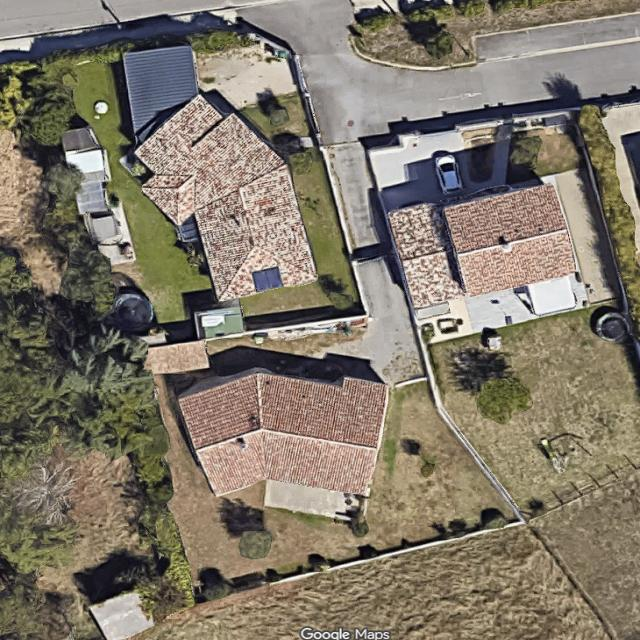maison: (109, 79, 355, 336), (179, 368, 387, 496), (443, 183, 577, 297)
